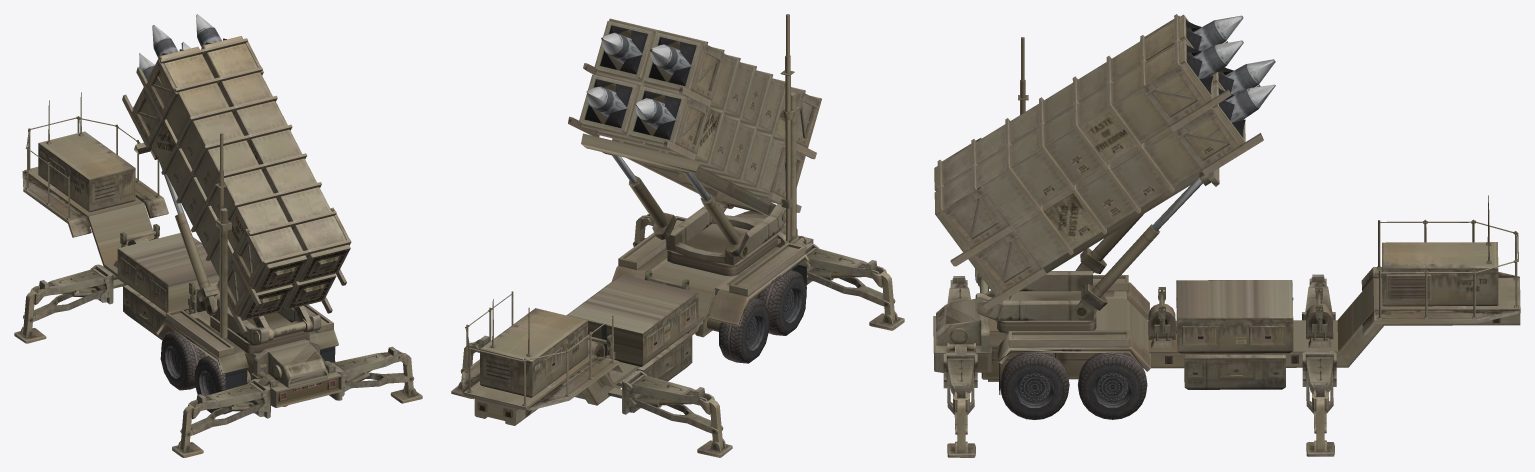
File: type_pac3.glb
3 renders of one model, left to right at view 1: azimuth 30°, elevation 25°; view 2: azimuth 150°, elevation 25°; view 3: azimuth 270°, elevation 25°, orthographic. The views are drawn at different scales.
Visible parts, largest first — view 1: Object_4, Object_3, Object_2; view 2: Object_3, Object_4, Object_2; view 3: Object_4, Object_3, Object_2.
Part boxes in pixels (left/top/right/bottom): Object_4: left=122, top=14, right=351, bottom=343; Object_3: left=14, top=92, right=422, bottom=457; Object_2: left=160, top=331, right=335, bottom=414; Object_3: left=451, top=203, right=904, bottom=457; Object_4: left=568, top=14, right=821, bottom=259; Object_2: left=719, top=270, right=806, bottom=363; Object_4: left=934, top=14, right=1275, bottom=319; Object_3: left=933, top=195, right=1520, bottom=457; Object_2: left=1000, top=352, right=1147, bottom=419.
Size of the model in its own units: 6.58 by 8.15 by 11.96.
2 materials, 2 textured.
